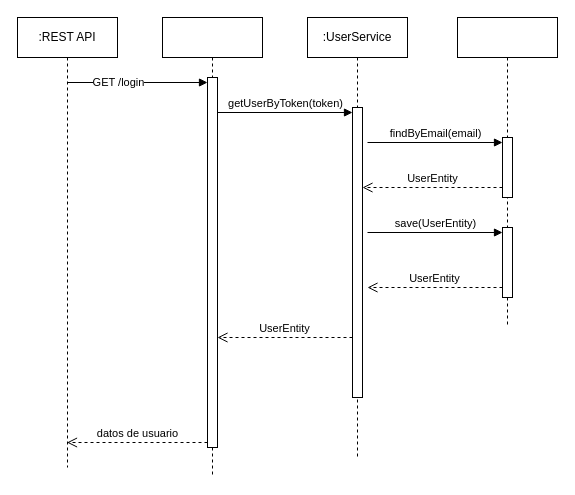
The diagram is 575 pixels wide and 495 high, and some of its shapes have lost their labels. Here are the shapes that lost their labels. From the top down, the box of each, then its label:
(456, 16, 558, 328): :UserRepository
(162, 16, 262, 478): :UserController
